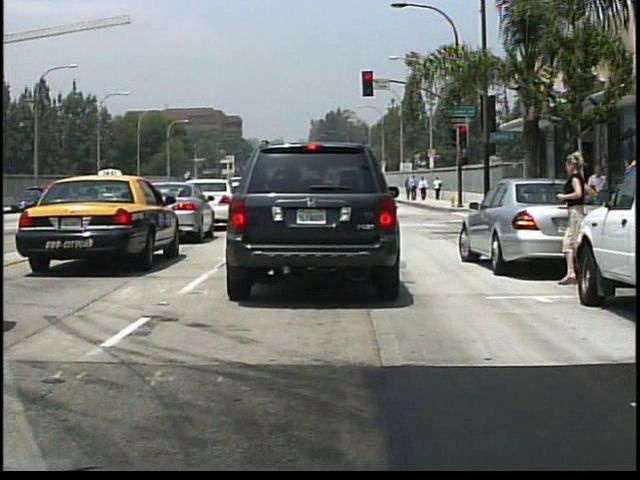person: (547, 147, 598, 287), (584, 161, 610, 235), (434, 176, 445, 202), (409, 174, 419, 201), (419, 175, 428, 201), (405, 177, 413, 199)
